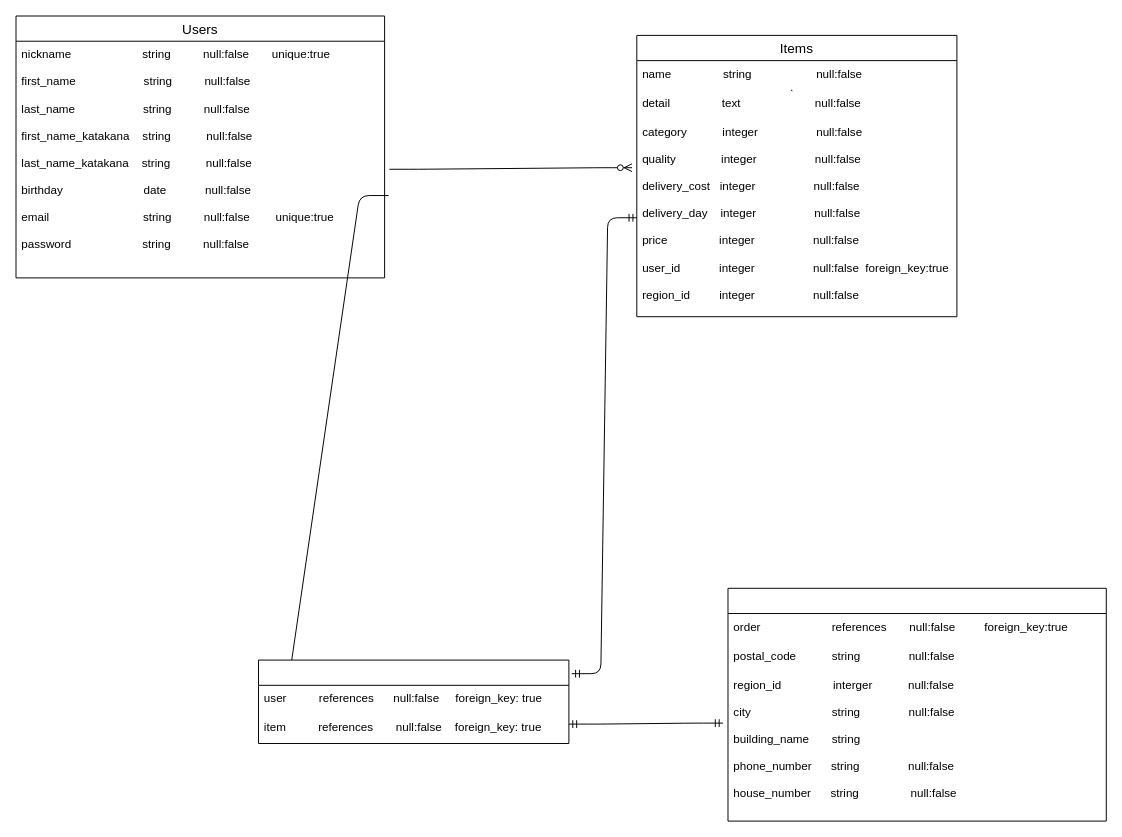
Image size: 1122x837. Some labels were removed from this diagram. Here are the shapes that lost their labels. From the top down, the box of each, then its label:
(258, 659, 569, 744): Orders
(727, 587, 1106, 821): Addresses
